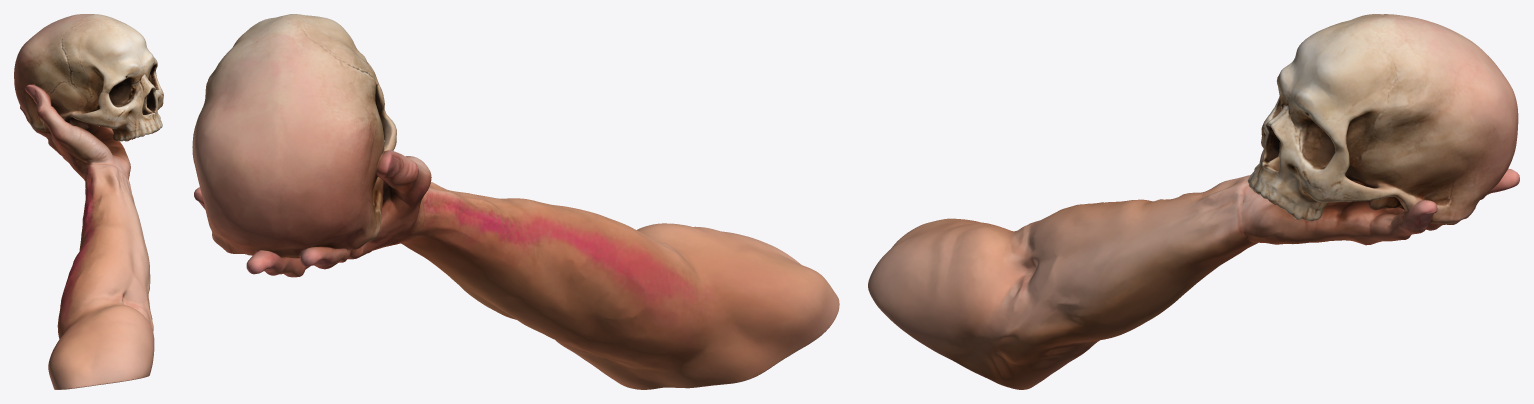
The model's file is skull_arm.glb.
3 views of the same model, side by side, from view 1: azimuth 30°, elevation 25°; view 2: azimuth 150°, elevation 25°; view 3: azimuth 270°, elevation 25° (orthographic). The views are drawn at different scales.
Parts seen in each view (by area): view 1: skull_arm; view 2: skull_arm; view 3: skull_arm.
Boxes of the visible parts, x1,y1,x2,y2 form: skull_arm: (14, 14, 163, 389); skull_arm: (192, 14, 839, 389); skull_arm: (868, 14, 1519, 389).
Bounding box in the file's own units: 0.5084 × 0.564 × 0.7651.
Materials: 1 (1 with a texture image).
